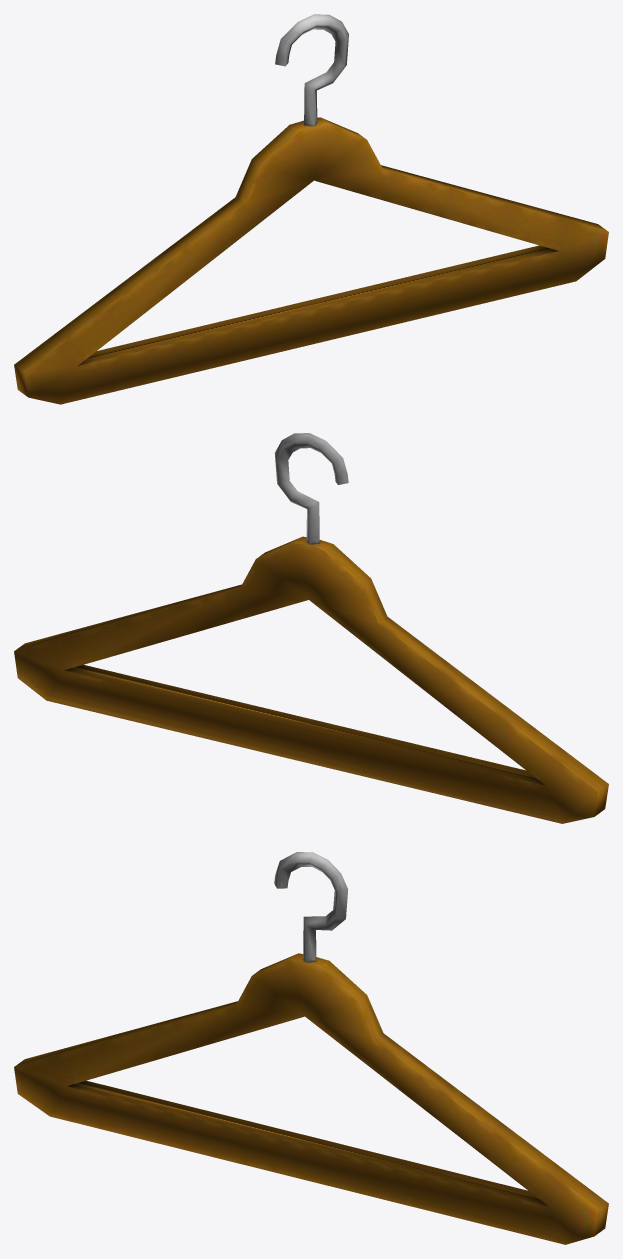
File: clothes_hanger.fbx
3 renders of one model, top to bottom at view 1: azimuth 30°, elevation 25°; view 2: azimuth 150°, elevation 25°; view 3: azimuth 330°, elevation 25°, orthographic.
Parts seen in each view (by area): view 1: clothes_hanger; view 2: clothes_hanger; view 3: clothes_hanger.
Part boxes in pixels (left/top/right/bottom): clothes_hanger: left=14, top=14, right=608, bottom=404; clothes_hanger: left=14, top=433, right=608, bottom=823; clothes_hanger: left=14, top=852, right=608, bottom=1244.
Size of the model in its own units: 55.18 by 1.78 by 29.44.
